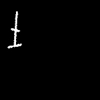double_crochet: (8, 12, 20, 47)
